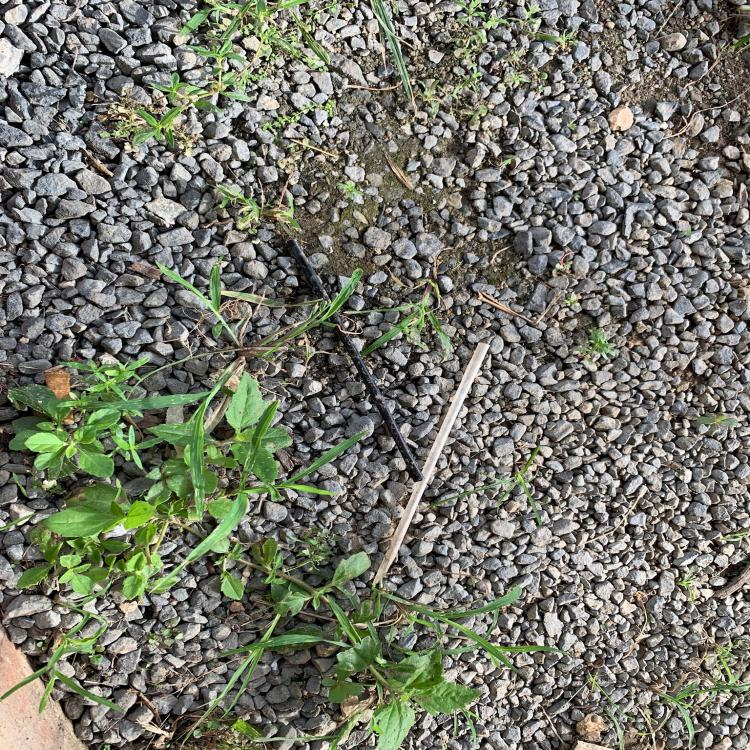Cigarette: (45, 372, 74, 425)
Plastic straw: (286, 239, 425, 481), (373, 343, 490, 586)
